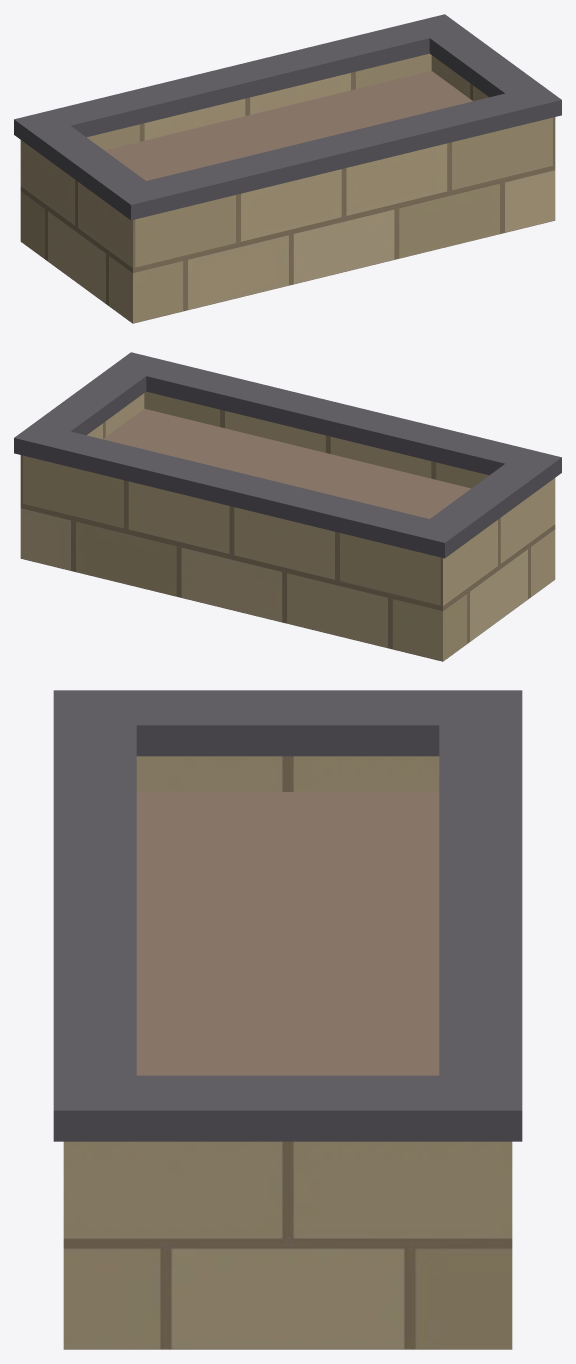
File: planter_rect.glb
The picture shows the model from 3 angles, top to bottom: view 1: azimuth 30°, elevation 25°; view 2: azimuth 150°, elevation 25°; view 3: azimuth 270°, elevation 25°; orthographic projection. The views are drawn at different scales.
Visible parts, largest first — view 1: planter_rect; view 2: planter_rect; view 3: planter_rect.
Boxes of the visible parts, box(x1,y1,x2,y2) form: planter_rect: box(14, 14, 561, 323); planter_rect: box(14, 352, 561, 661); planter_rect: box(53, 690, 522, 1349).
Bounding box in the file's own units: 2.04 × 0.5499 × 0.9601.
Materials: 3 (1 with a texture image).
